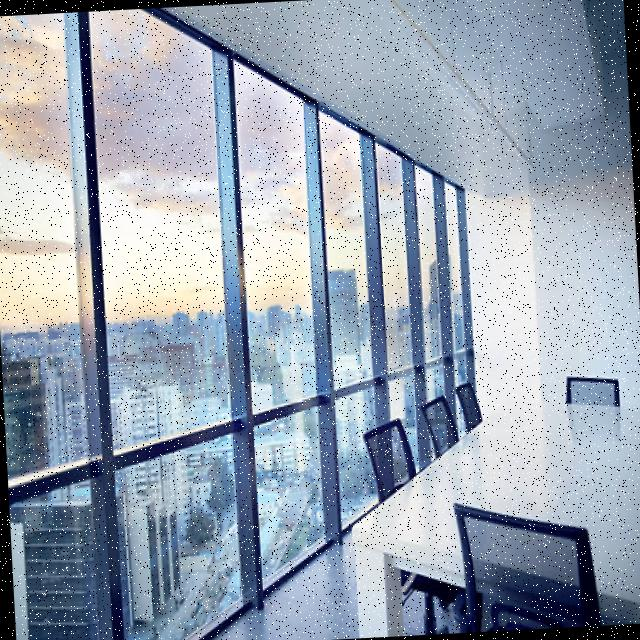Window: (85, 4, 260, 640), (232, 43, 345, 609), (318, 110, 396, 544)
